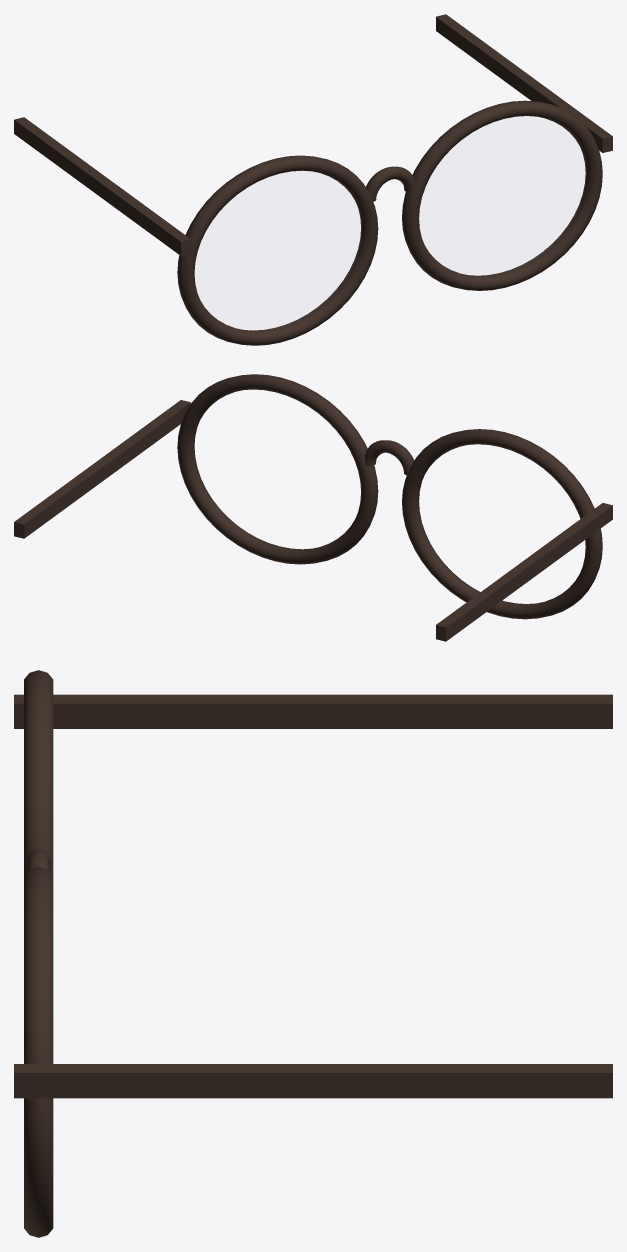
The model's file is glasses.glb.
3 views of the same model, one above another, from view 1: azimuth 30°, elevation 25°; view 2: azimuth 150°, elevation 25°; view 3: azimuth 270°, elevation 25° (orthographic). The views are drawn at different scales.
Size of the model in its own units: 0.127 by 0.0514 by 0.085.
